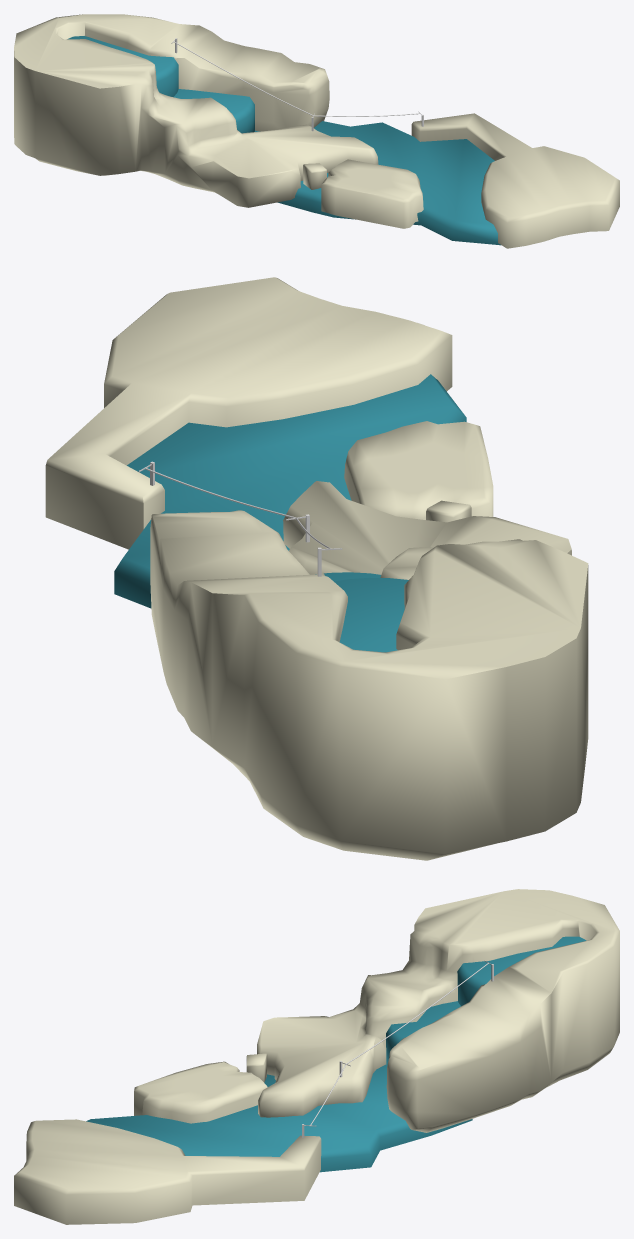
File: map_V2.fbx
3 renders of one model, top to bottom at view 1: azimuth 30°, elevation 25°; view 2: azimuth 150°, elevation 25°; view 3: azimuth 270°, elevation 25°, orthographic. The views are drawn at different scales.
Parts seen in each view (by area): view 1: Plane, Plane.003, Plane.005, Plane.002, Cylinder.003, Cylinder.002, Plane.001, NurbsPath; view 2: Plane, Plane.003, Plane.005, Plane.002, Cylinder.002, Plane.001; view 3: Plane, Plane.003, Plane.005, Plane.002, Cylinder.002, Cylinder.003, Plane.001.
Part boxes in pixels (<box>): Plane: <box>14,14,378,207</box>; Plane.003: <box>411,113,619,248</box>; Plane.005: <box>254,121,500,245</box>; Plane.002: <box>321,159,423,228</box>; Cylinder.003: <box>173,89,254,133</box>; Cylinder.002: <box>67,36,178,96</box>; Plane.001: <box>303,163,326,189</box>; NurbsPath: <box>173,41,420,116</box>; Plane: <box>150,481,588,860</box>; Plane.003: <box>45,277,452,549</box>; Plane.005: <box>114,374,466,608</box>; Plane.002: <box>344,421,493,519</box>; Cylinder.002: <box>334,577,408,652</box>; Plane.001: <box>426,500,471,522</box>; Plane: <box>257,889,619,1132</box>; Plane.003: <box>14,1119,321,1224</box>; Plane.005: <box>86,1064,472,1172</box>; Plane.002: <box>134,1061,267,1123</box>; Cylinder.002: <box>457,936,586,1006</box>; Cylinder.003: <box>386,1001,460,1066</box>; Plane.001: <box>246,1053,267,1082</box>.
Size of the model in its own units: 55395 by 13114 by 62609.
